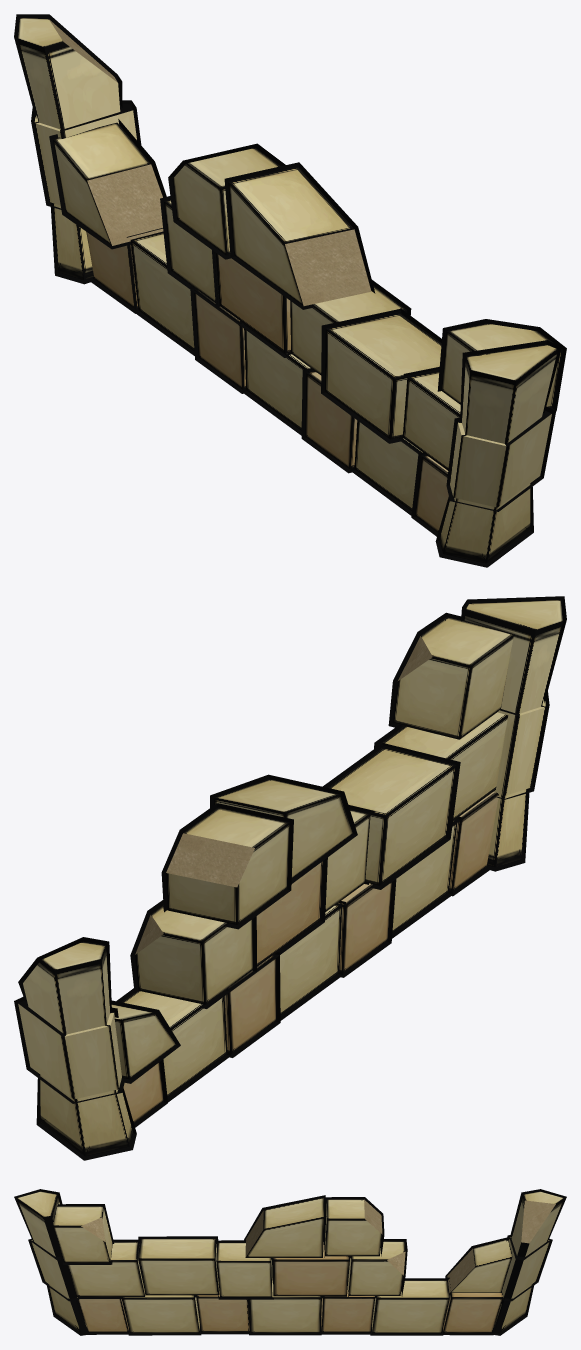
Rendered from normal_wall_state03.FBX.
3 renders of one model, top to bottom at view 1: azimuth 30°, elevation 25°; view 2: azimuth 150°, elevation 25°; view 3: azimuth 270°, elevation 25°, orthographic. The views are drawn at different scales.
Parts seen in each view (by area): view 1: Box108, Box109; view 2: Box108, Box109; view 3: Box108, Box109.
Part boxes in pixels (x1=…): Box108: x1=17, y1=17, x2=562, y2=563; Box109: x1=14, y1=14, x2=566, y2=567; Box108: x1=18, y1=599, x2=563, y2=1156; Box109: x1=14, y1=596, x2=566, y2=1160; Box108: x1=16, y1=1191, x2=564, y2=1333; Box109: x1=14, y1=1189, x2=566, y2=1335.
Bounding box in the file's own units: 0.2756 × 0.5213 × 2.17.
Materials: 6 (5 with a texture image).
